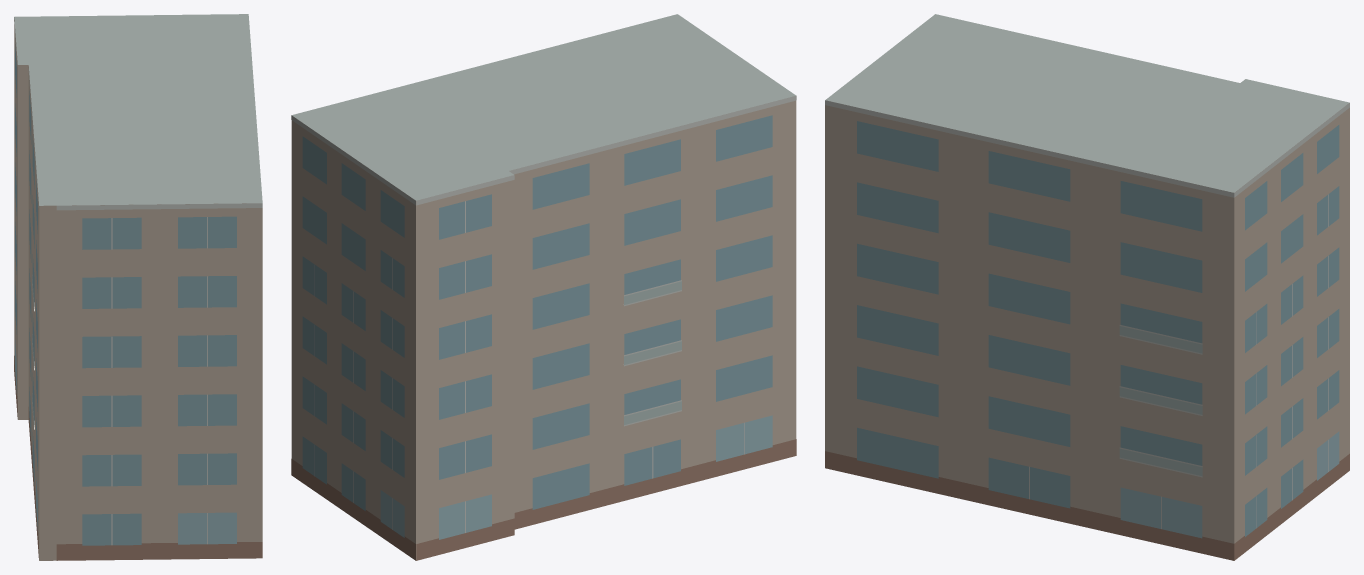
Rendered from survey-upis-32887178.glb.
3 views of the same model, side by side, from view 1: azimuth 30°, elevation 25°; view 2: azimuth 150°, elevation 25°; view 3: azimuth 270°, elevation 25° (orthographic). The views are drawn at different scales.
Visible parts, largest first — view 1: survey-upis-32887178.tmp; view 2: survey-upis-32887178.tmp; view 3: survey-upis-32887178.tmp.
Boxes of the visible parts, x1,y1,x2,y2 form: survey-upis-32887178.tmp: (14, 14, 262, 560); survey-upis-32887178.tmp: (291, 14, 796, 560); survey-upis-32887178.tmp: (825, 14, 1349, 560).
Bounding box in the file's own units: 19.08 × 18.3 × 23.66.
